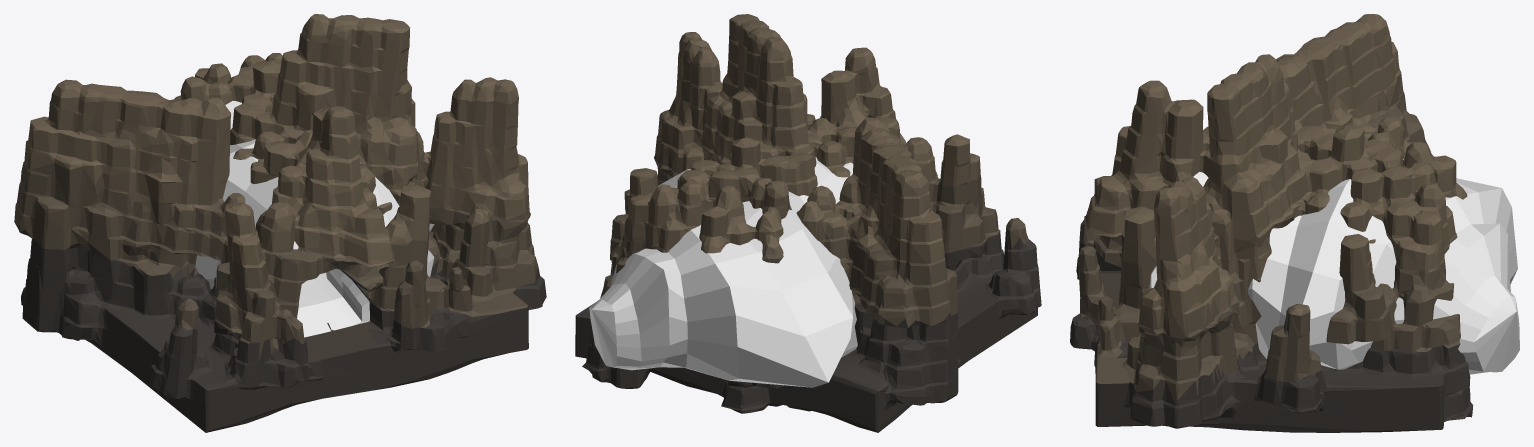
File: SM_WaterfallCave.glb
3 renders of one model, left to right at view 1: azimuth 30°, elevation 25°; view 2: azimuth 150°, elevation 25°; view 3: azimuth 270°, elevation 25°, orthographic. The views are drawn at different scales.
Parts seen in each view (by area): view 1: SM_WaterfallCave, COL_WaterfallCave; view 2: SM_WaterfallCave, COL_WaterfallCave; view 3: SM_WaterfallCave, COL_WaterfallCave.
Part boxes in pixels (x1,y1,x2,y2): SM_WaterfallCave: (14,14,546,432); COL_WaterfallCave: (195,101,434,337); SM_WaterfallCave: (575,14,1041,432); COL_WaterfallCave: (589,157,857,387); SM_WaterfallCave: (1070,14,1473,432); COL_WaterfallCave: (1149,159,1519,374).
Size of the model in its own units: 17.2 by 12.42 by 15.76.
